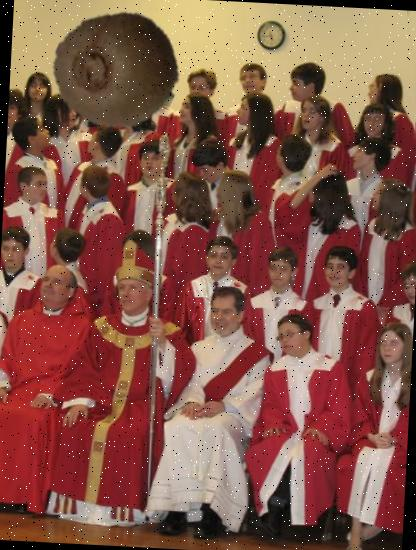Kiwi: (51, 2, 184, 135)
